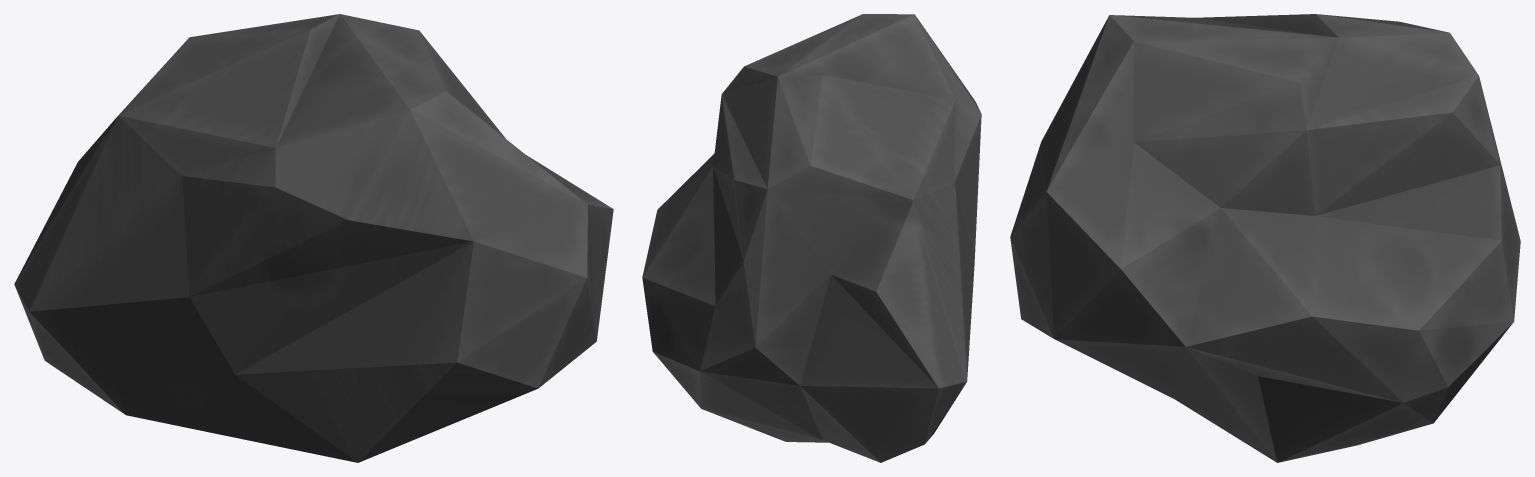
The model's file is asteroid7.glb.
3 renders of one model, left to right at view 1: azimuth 30°, elevation 25°; view 2: azimuth 150°, elevation 25°; view 3: azimuth 270°, elevation 25°, orthographic. The views are drawn at different scales.
Visible parts, largest first — view 1: Asteroids_Mesh.007; view 2: Asteroids_Mesh.007; view 3: Asteroids_Mesh.007.
Boxes of the visible parts, box(x1,y1,x2,y2) form: Asteroids_Mesh.007: box(14, 14, 613, 462); Asteroids_Mesh.007: box(642, 14, 981, 462); Asteroids_Mesh.007: box(1010, 14, 1520, 462).
Size of the model in its own units: 1.08 by 1.01 by 1.11.
Materials: 1 (1 with a texture image).
